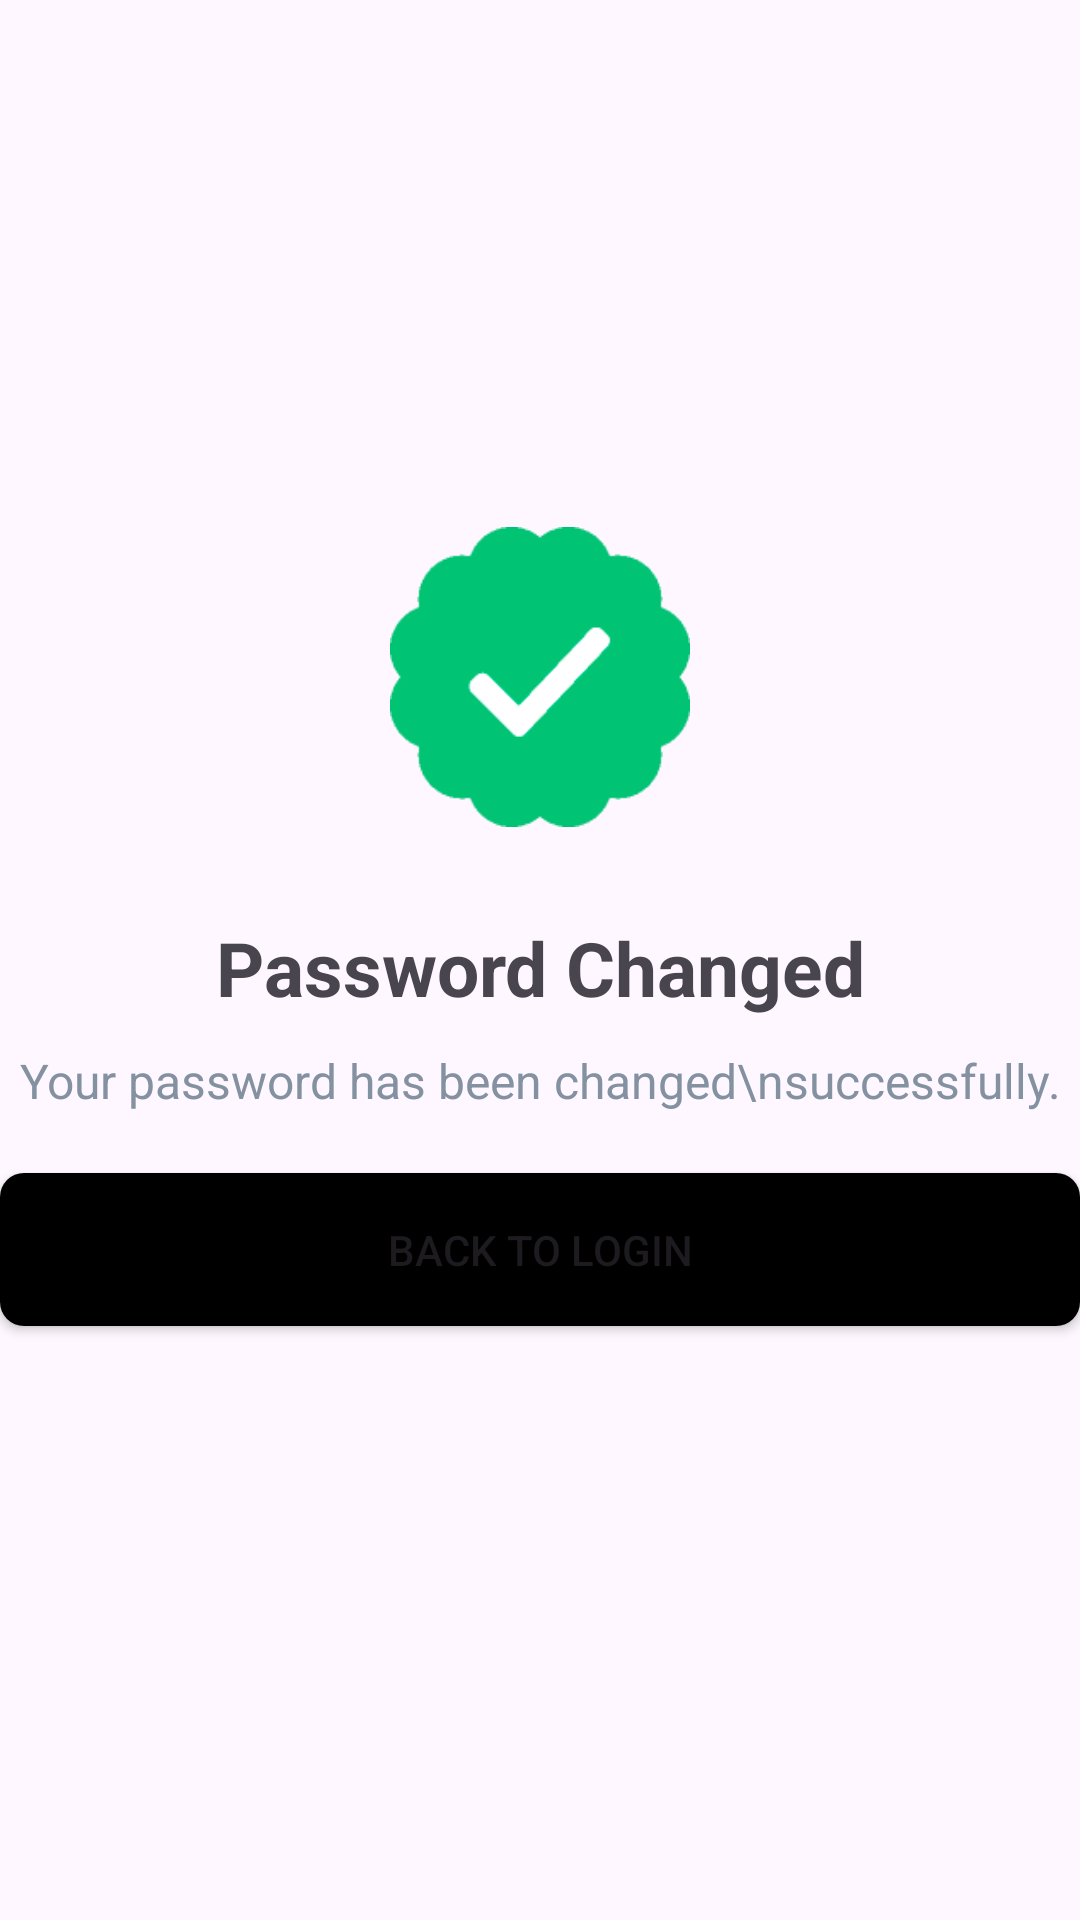

Named icons in this screenshot (1080w x 1920h) and their centers, (x,y):
successful: (540,677)
